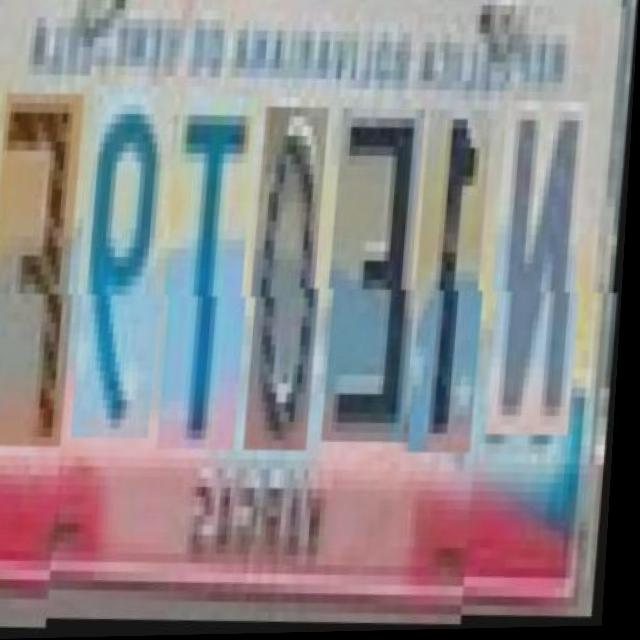1: (410, 112, 494, 458)
9: (73, 88, 173, 445)
e: (324, 110, 427, 448)
f: (0, 87, 88, 444)
n: (488, 112, 591, 449)
o: (247, 110, 331, 456)
t: (159, 99, 260, 456)
